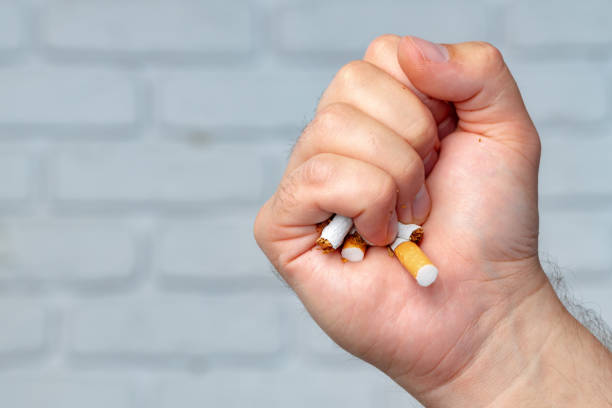cigarette: (387, 236, 439, 289), (314, 212, 354, 255), (340, 224, 368, 264), (394, 219, 425, 244)
